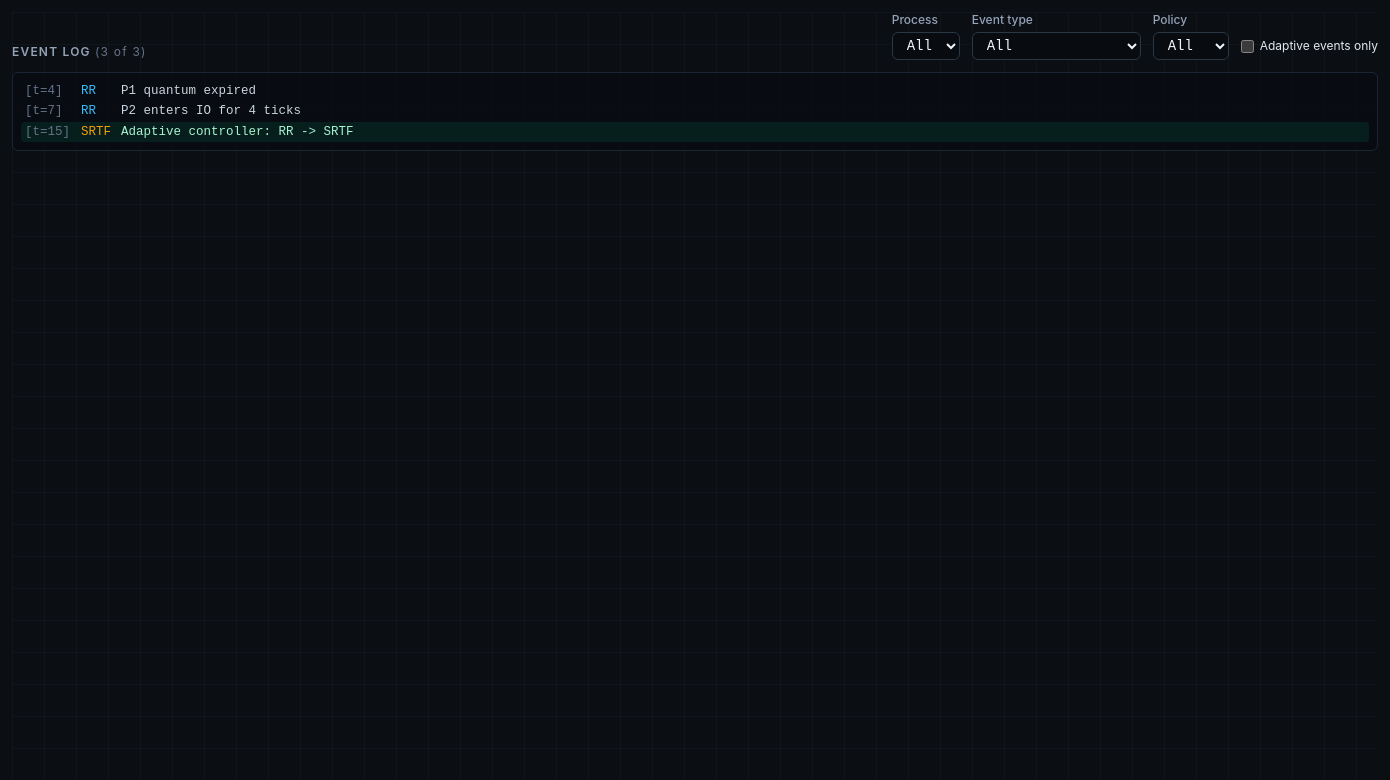
Scenario: EventLog › filters by process
Select "P1" in the dropdown labelled "Process" at x=926, y=46, box top-left (892, 32), bottom-right (960, 60)
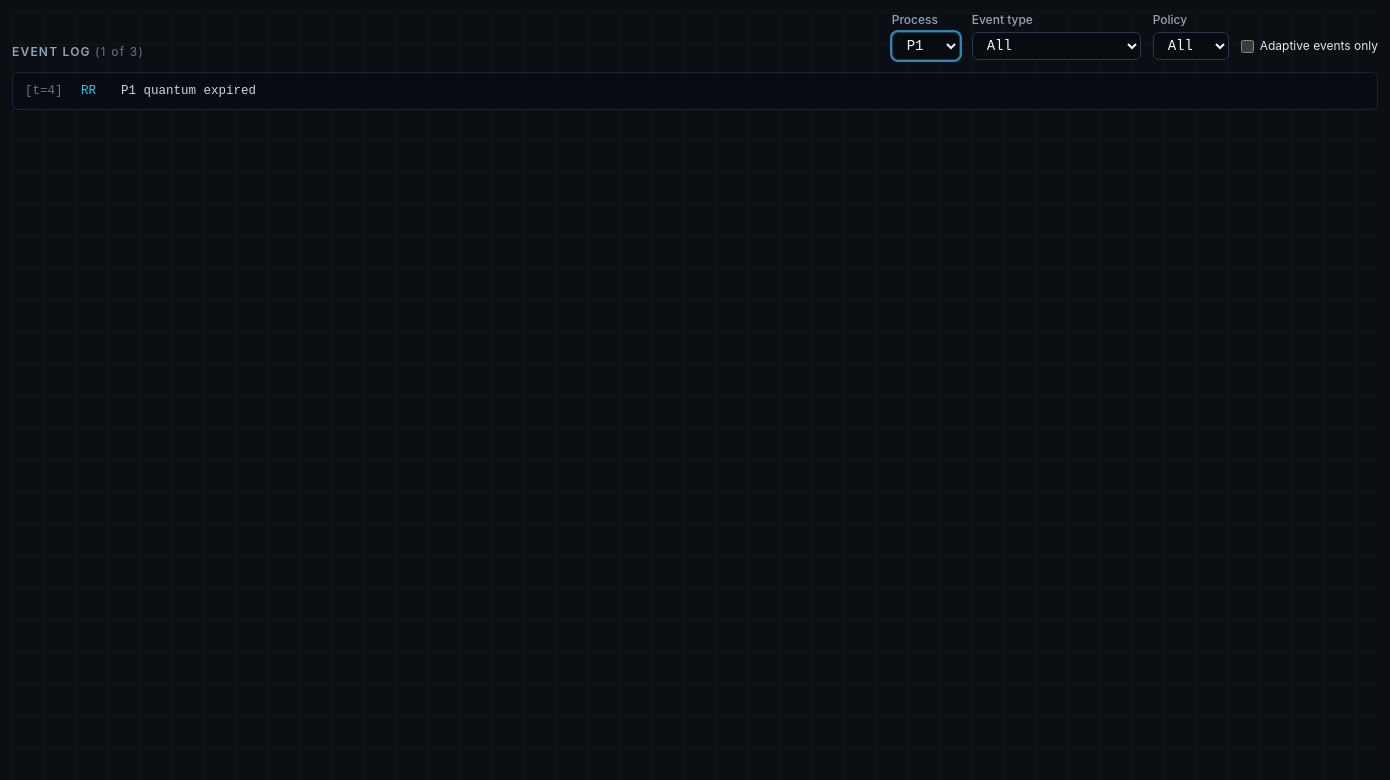
Result: the text "(1 of 3)" is shown at top-left (95, 44), bottom-right (144, 59)
